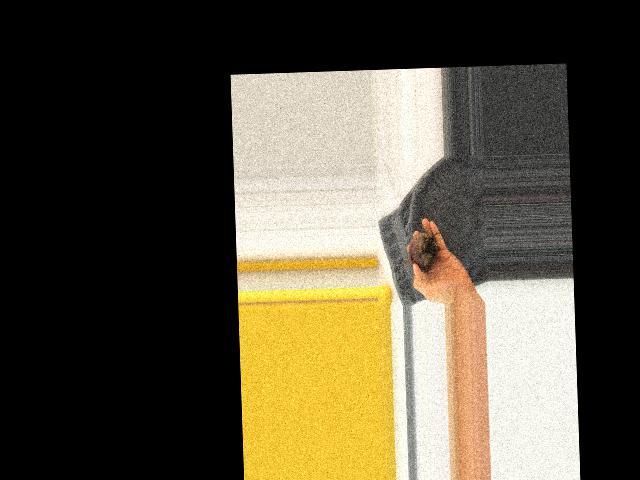beet: (388, 232, 439, 272)
